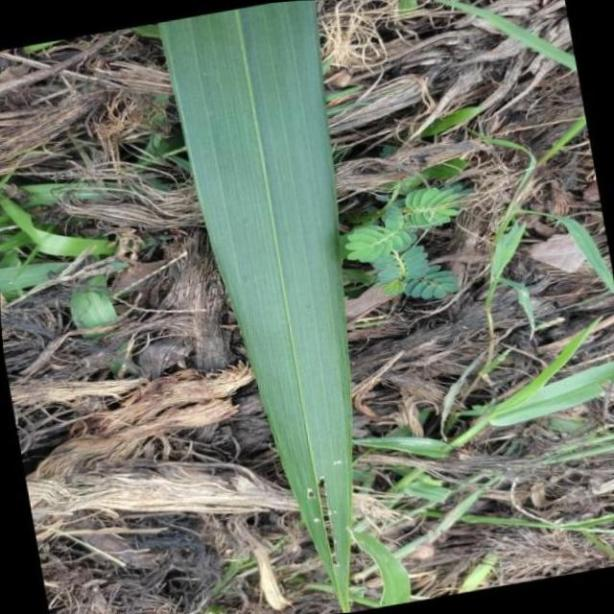Boron: (155, 0, 355, 614)
